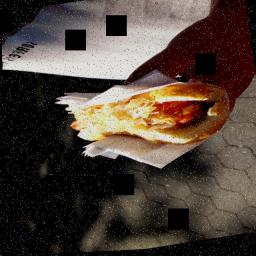hotdog: (50, 78, 240, 162)
